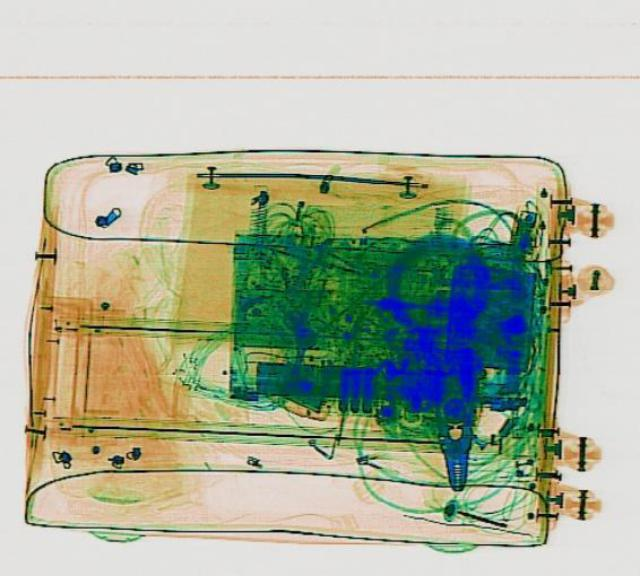Pliers: (432, 349, 478, 490)
